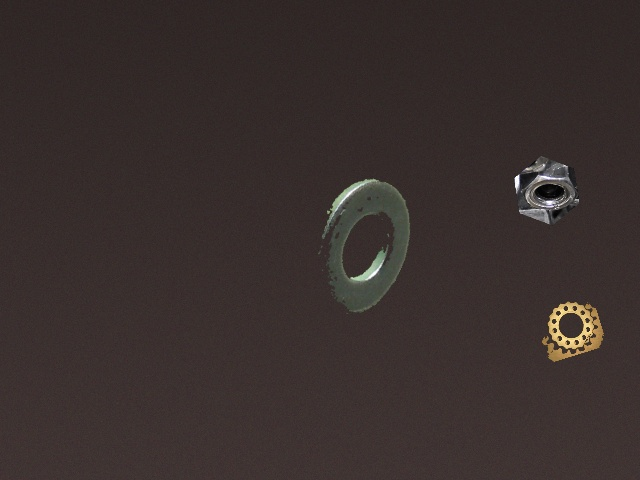gear: (542, 301, 604, 361)
nut: (514, 156, 579, 225)
washer: (318, 178, 409, 314)
